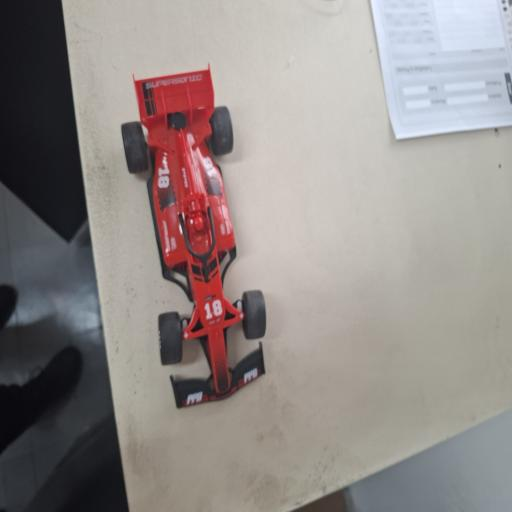carro: (122, 68, 265, 407)
